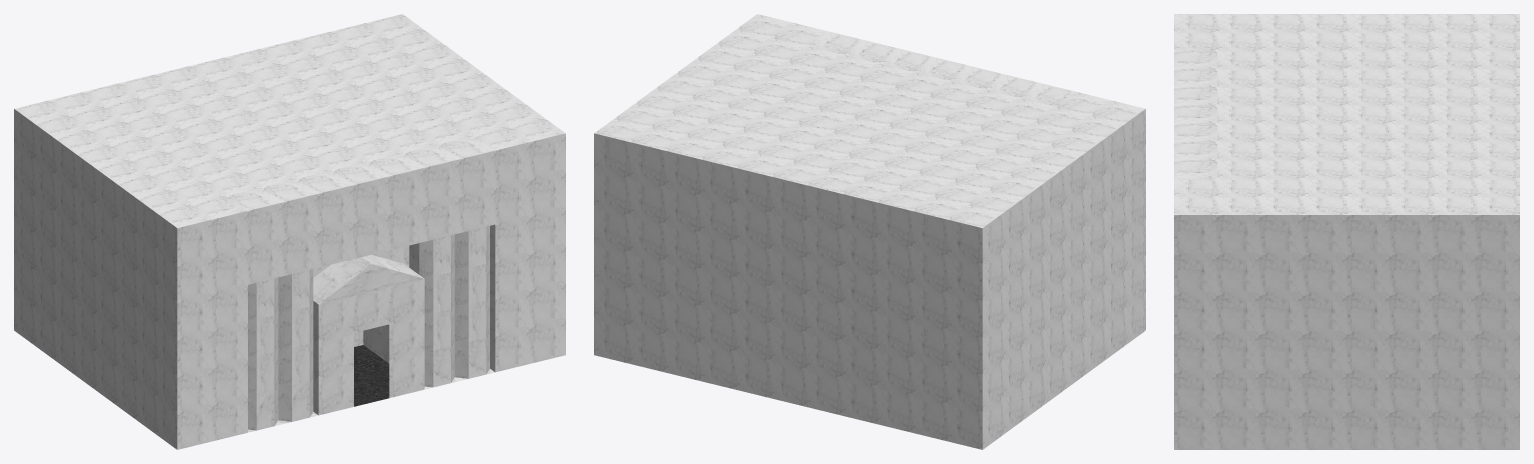
Rendered from new Hall.fbx.
The picture shows the model from 3 angles, left to right: view 1: azimuth 30°, elevation 25°; view 2: azimuth 150°, elevation 25°; view 3: azimuth 270°, elevation 25°; orthographic projection. The views are drawn at different scales.
Parts seen in each view (by area): view 1: Cube; view 2: Cube; view 3: Cube.
Boxes of the visible parts, x1,y1,x2,y2 form: Cube: (14,14,565,449); Cube: (594,14,1145,449); Cube: (1174,14,1519,449).
Bounding box in the file's own units: 951 × 519 × 692.
